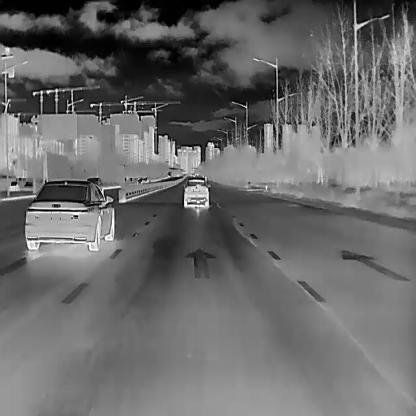car: (24, 178, 114, 250), (181, 177, 210, 208), (86, 177, 103, 194), (9, 180, 19, 190), (23, 180, 31, 190), (136, 177, 143, 184)
